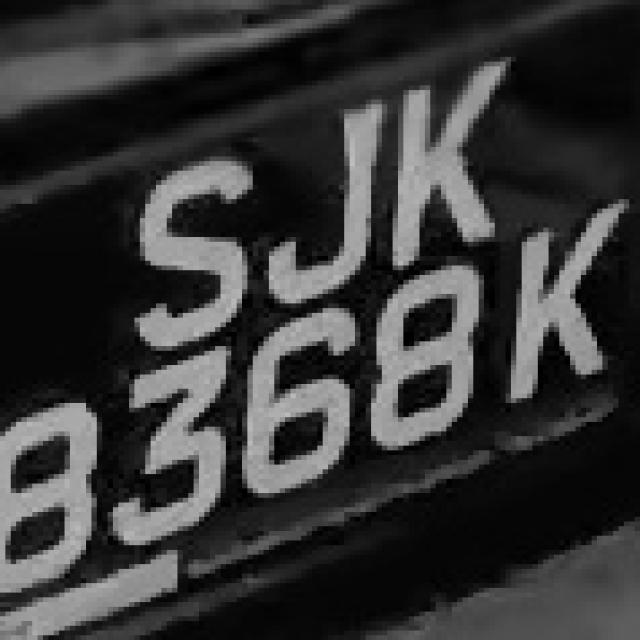3: (108, 351, 252, 540)
6: (231, 284, 371, 512)
8: (366, 265, 489, 460), (11, 393, 118, 607)
J: (237, 109, 403, 308)
K: (484, 194, 619, 422), (377, 62, 500, 256)
S: (108, 133, 252, 346)
